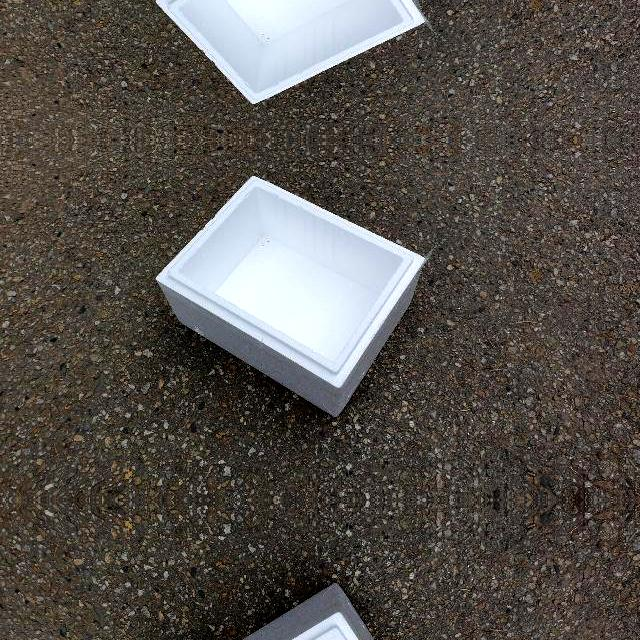Styrofoam: (156, 174, 424, 416), (157, 177, 425, 414), (156, 0, 423, 105), (157, 0, 425, 103), (156, 584, 423, 640)
